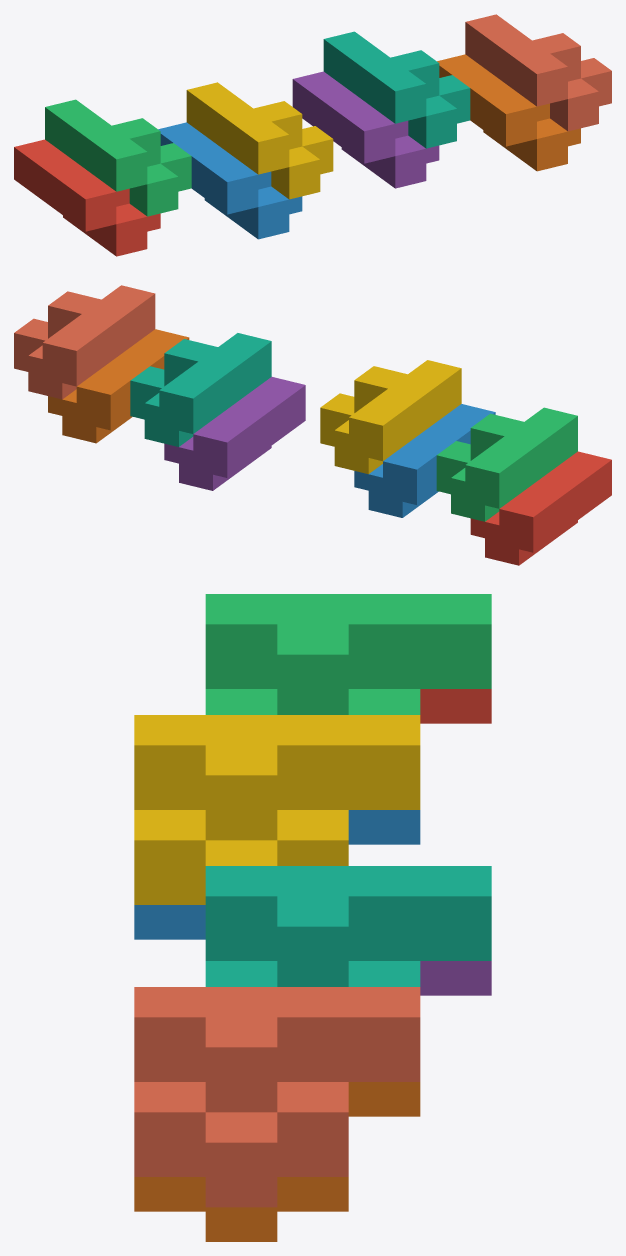
The model's file is tiling.obj.
3 renders of one model, top to bottom at view 1: azimuth 30°, elevation 25°; view 2: azimuth 150°, elevation 25°; view 3: azimuth 270°, elevation 25°, orthographic. The views are drawn at different scales.
Parts seen in each view (by area): view 1: copy_1_domain_4, copy_1_domain_7, copy_1_domain_3, copy_1_domain_8, copy_1_domain_1, copy_1_domain_5, copy_1_domain_2, copy_1_domain_6; view 2: copy_1_domain_7, copy_1_domain_4, copy_1_domain_3, copy_1_domain_8, copy_1_domain_1, copy_1_domain_5, copy_1_domain_6, copy_1_domain_2; view 3: copy_1_domain_8, copy_1_domain_4, copy_1_domain_3, copy_1_domain_7, copy_1_domain_6, copy_1_domain_2, copy_1_domain_1, copy_1_domain_5.
Part boxes in pixels (x1,y1,x2,y2): copy_1_domain_4: (186,82,333,199); copy_1_domain_7: (323,31,470,148); copy_1_domain_3: (45,99,191,216); copy_1_domain_8: (465,14,611,131); copy_1_domain_1: (14,139,160,256); copy_1_domain_5: (292,71,439,188); copy_1_domain_2: (158,122,302,239); copy_1_domain_6: (437,54,580,171); copy_1_domain_7: (130,333,271,446); copy_1_domain_4: (320,360,461,474); copy_1_domain_3: (436,407,577,521); copy_1_domain_8: (14,285,155,399); copy_1_domain_1: (470,451,611,565); copy_1_domain_5: (164,377,305,490); copy_1_domain_6: (48,329,189,443); copy_1_domain_2: (354,404,495,517); copy_1_domain_8: (134,987,420,1207); copy_1_domain_4: (134,715,420,904); copy_1_domain_3: (205,594,491,714); copy_1_domain_7: (205,866,491,986); copy_1_domain_6: (134,1082,420,1241); copy_1_domain_2: (134,810,420,939); copy_1_domain_1: (420,689,491,723); copy_1_domain_5: (420,961,491,995).
Size of the model in its own units: 17 by 3 by 5.
